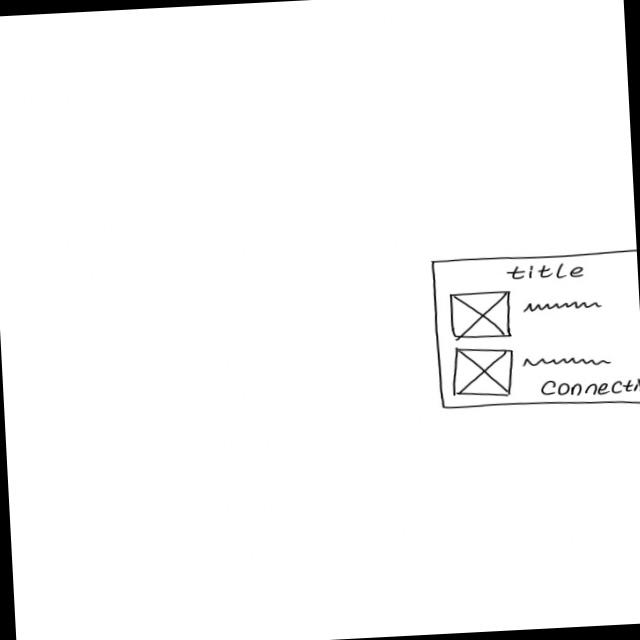container: (428, 247, 640, 419)
image: (450, 344, 518, 400), (448, 289, 514, 342)
label: (536, 375, 640, 409), (504, 260, 586, 282)
text: (520, 354, 614, 369), (520, 298, 604, 314)
